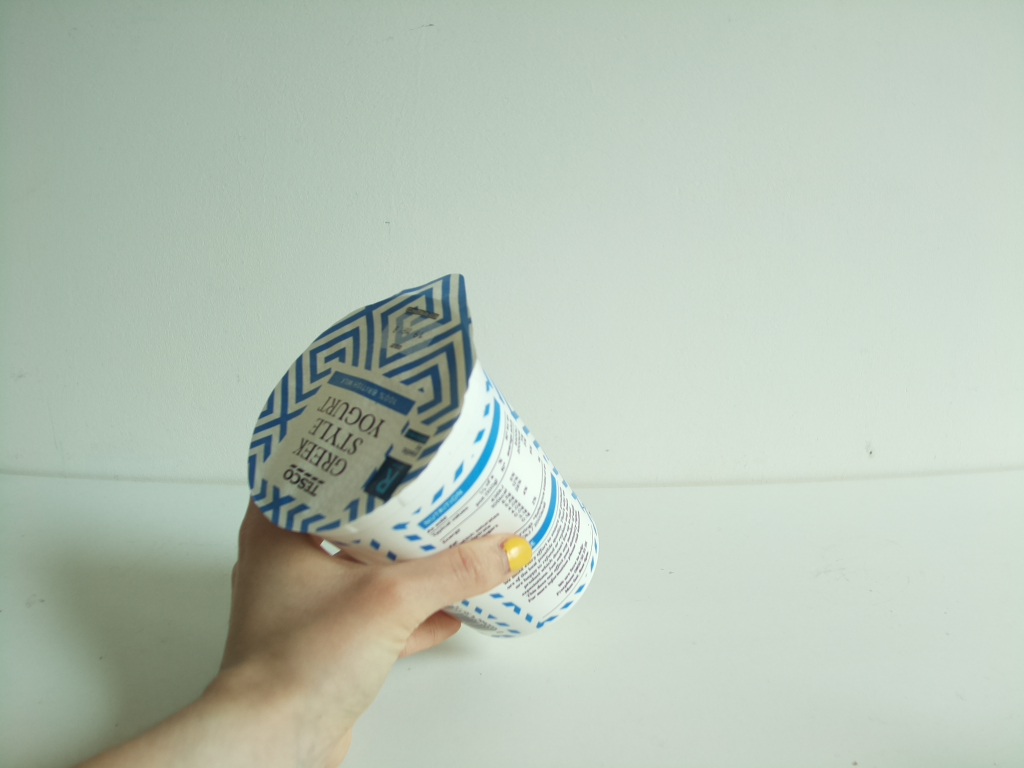yogurt: (240, 266, 601, 640)
